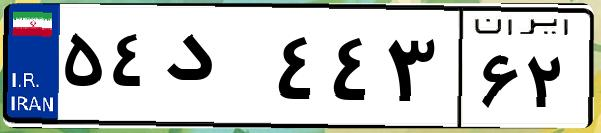2: (525, 38, 570, 115)
3: (385, 28, 445, 110)
4: (270, 28, 330, 110), (330, 28, 385, 110), (110, 28, 158, 98)
5: (57, 26, 110, 100)
6: (475, 38, 525, 113)
د: (158, 20, 270, 120)
